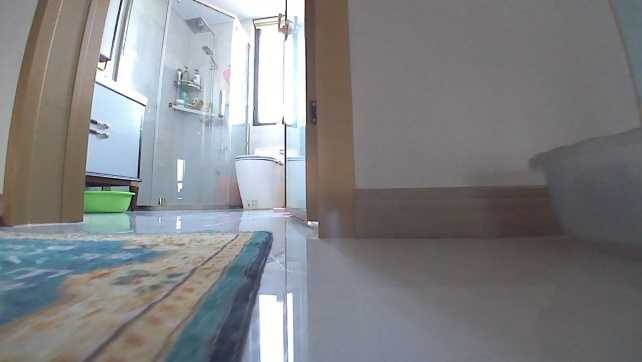blanket: (0, 230, 273, 361)
toilet: (232, 139, 288, 210)
